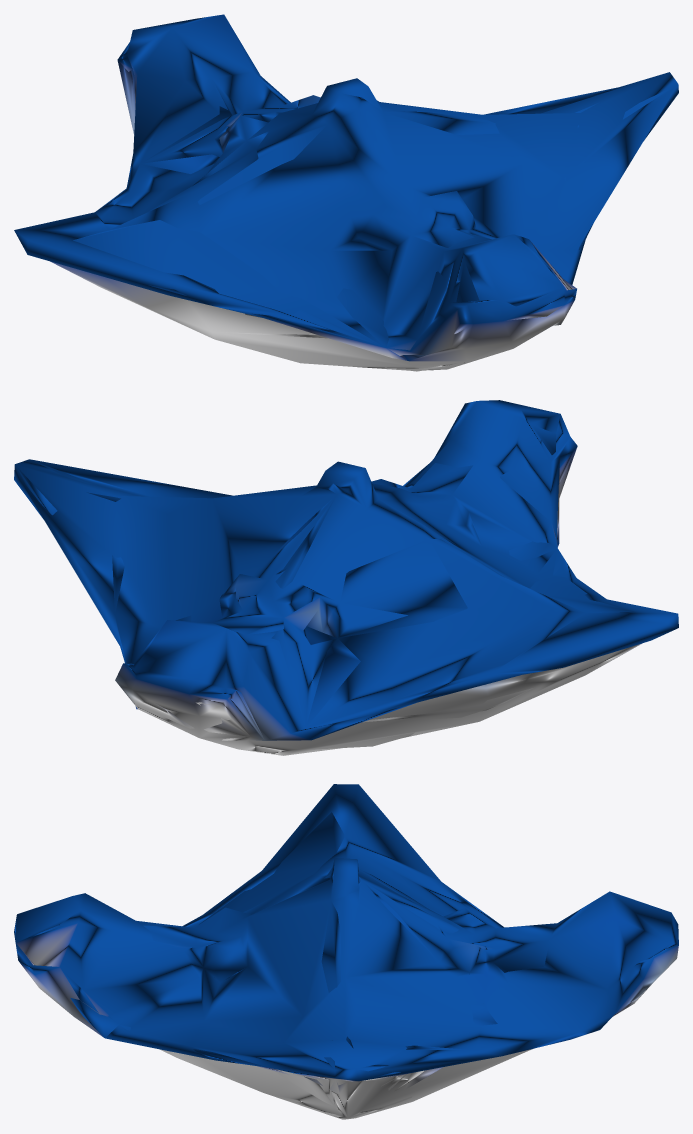
Rendered from gen3d-manta-ray-lod1.glb.
3 renders of one model, top to bottom at view 1: azimuth 30°, elevation 25°; view 2: azimuth 150°, elevation 25°; view 3: azimuth 270°, elevation 25°, orthographic. The views are drawn at different scales.
Visible parts, largest first — view 1: part_0; view 2: part_0; view 3: part_0.
Part boxes in pixels (bbox=[...]): part_0: bbox=[14, 14, 678, 371]; part_0: bbox=[14, 400, 678, 755]; part_0: bbox=[14, 784, 678, 1119].
Bounding box in the file's own units: 2.53 × 0.9922 × 2.5.
